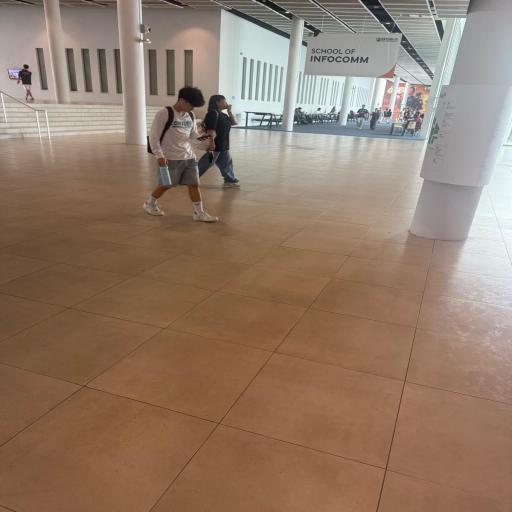person_left: (370, 108, 380, 130)
person_right: (142, 86, 219, 222), (142, 86, 218, 222), (196, 94, 241, 188), (17, 64, 34, 100)
